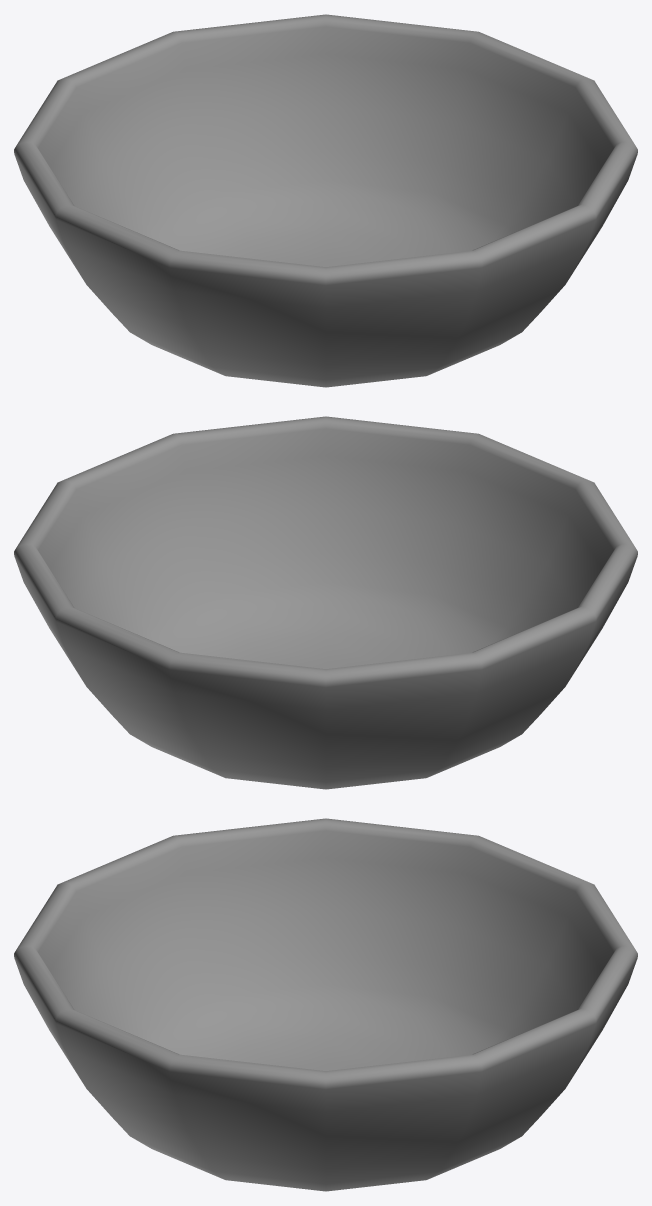
Rendered from Large Bowl.fbx.
3 views of the same model, one above another, from view 1: azimuth 30°, elevation 25°; view 2: azimuth 150°, elevation 25°; view 3: azimuth 270°, elevation 25° (orthographic).
Visible parts, largest first — view 1: Large Bowl; view 2: Large Bowl; view 3: Large Bowl.
Boxes of the visible parts, left/top/right/bottom form: Large Bowl: left=14, top=14, right=637, bottom=387; Large Bowl: left=14, top=416, right=637, bottom=789; Large Bowl: left=14, top=818, right=637, bottom=1191.
Size of the model in its own units: 37.3 by 12.29 by 37.3.
